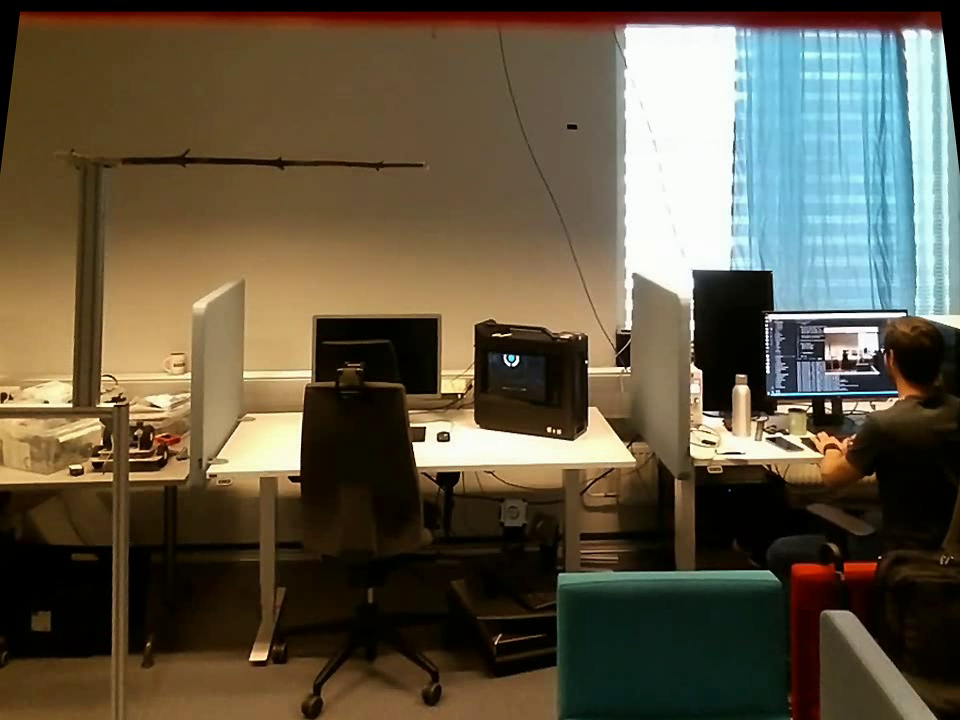aluminum_frame: (65, 165, 111, 412), (102, 399, 135, 719), (0, 393, 109, 423)
branch: (125, 142, 417, 177)
